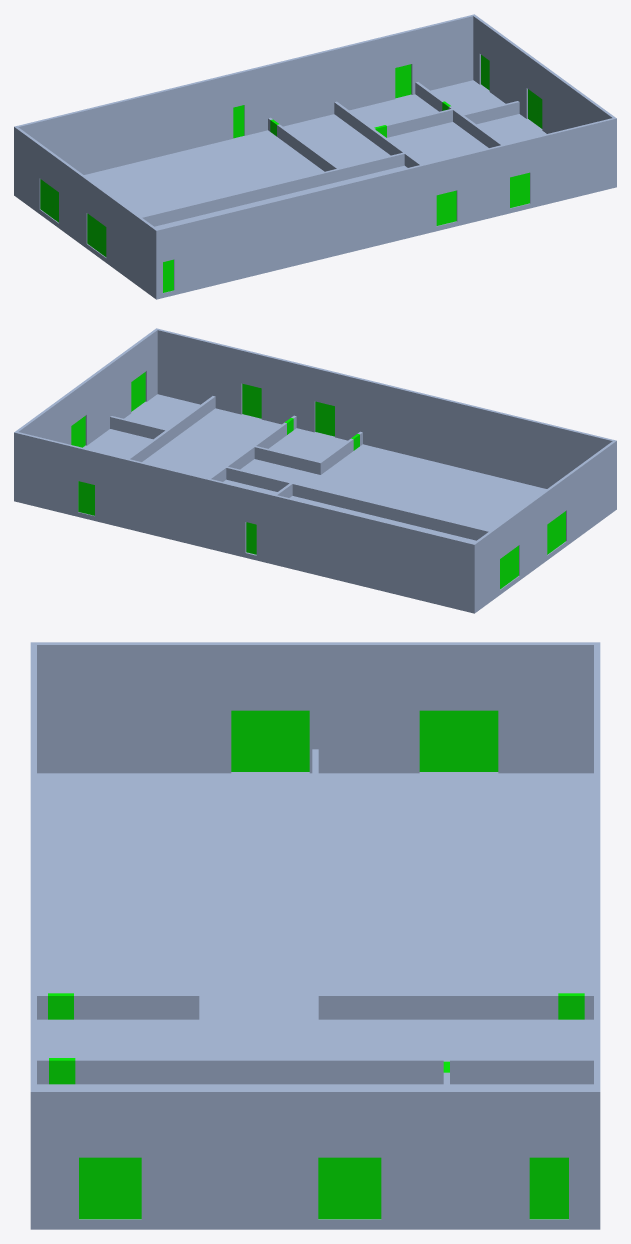
Rendered from Backwash_Pump_House_expansion.glb.
3 views of the same model, one above another, from view 1: azimuth 30°, elevation 25°; view 2: azimuth 150°, elevation 25°; view 3: azimuth 270°, elevation 25° (orthographic). The views are drawn at different scales.
Visible parts, largest first — view 1: Floor1; view 2: Floor1; view 3: Floor1.
Part boxes in pixels (x1=…): Floor1: x1=14, y1=14, x2=616, y2=299; Floor1: x1=14, y1=328, x2=616, y2=613; Floor1: x1=30, y1=642, x2=600, y2=1229.
Size of the model in its own units: 40.64 by 5.8 by 21.76.
